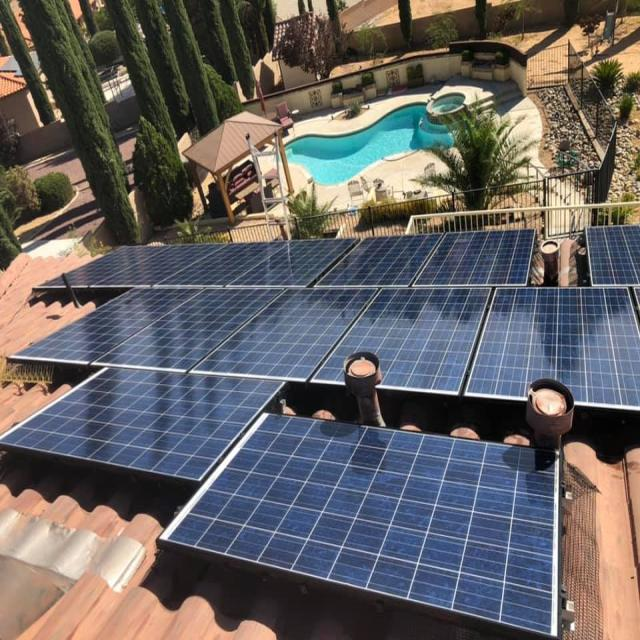clean-solar-panel: (19, 225, 640, 411), (0, 368, 282, 482)
